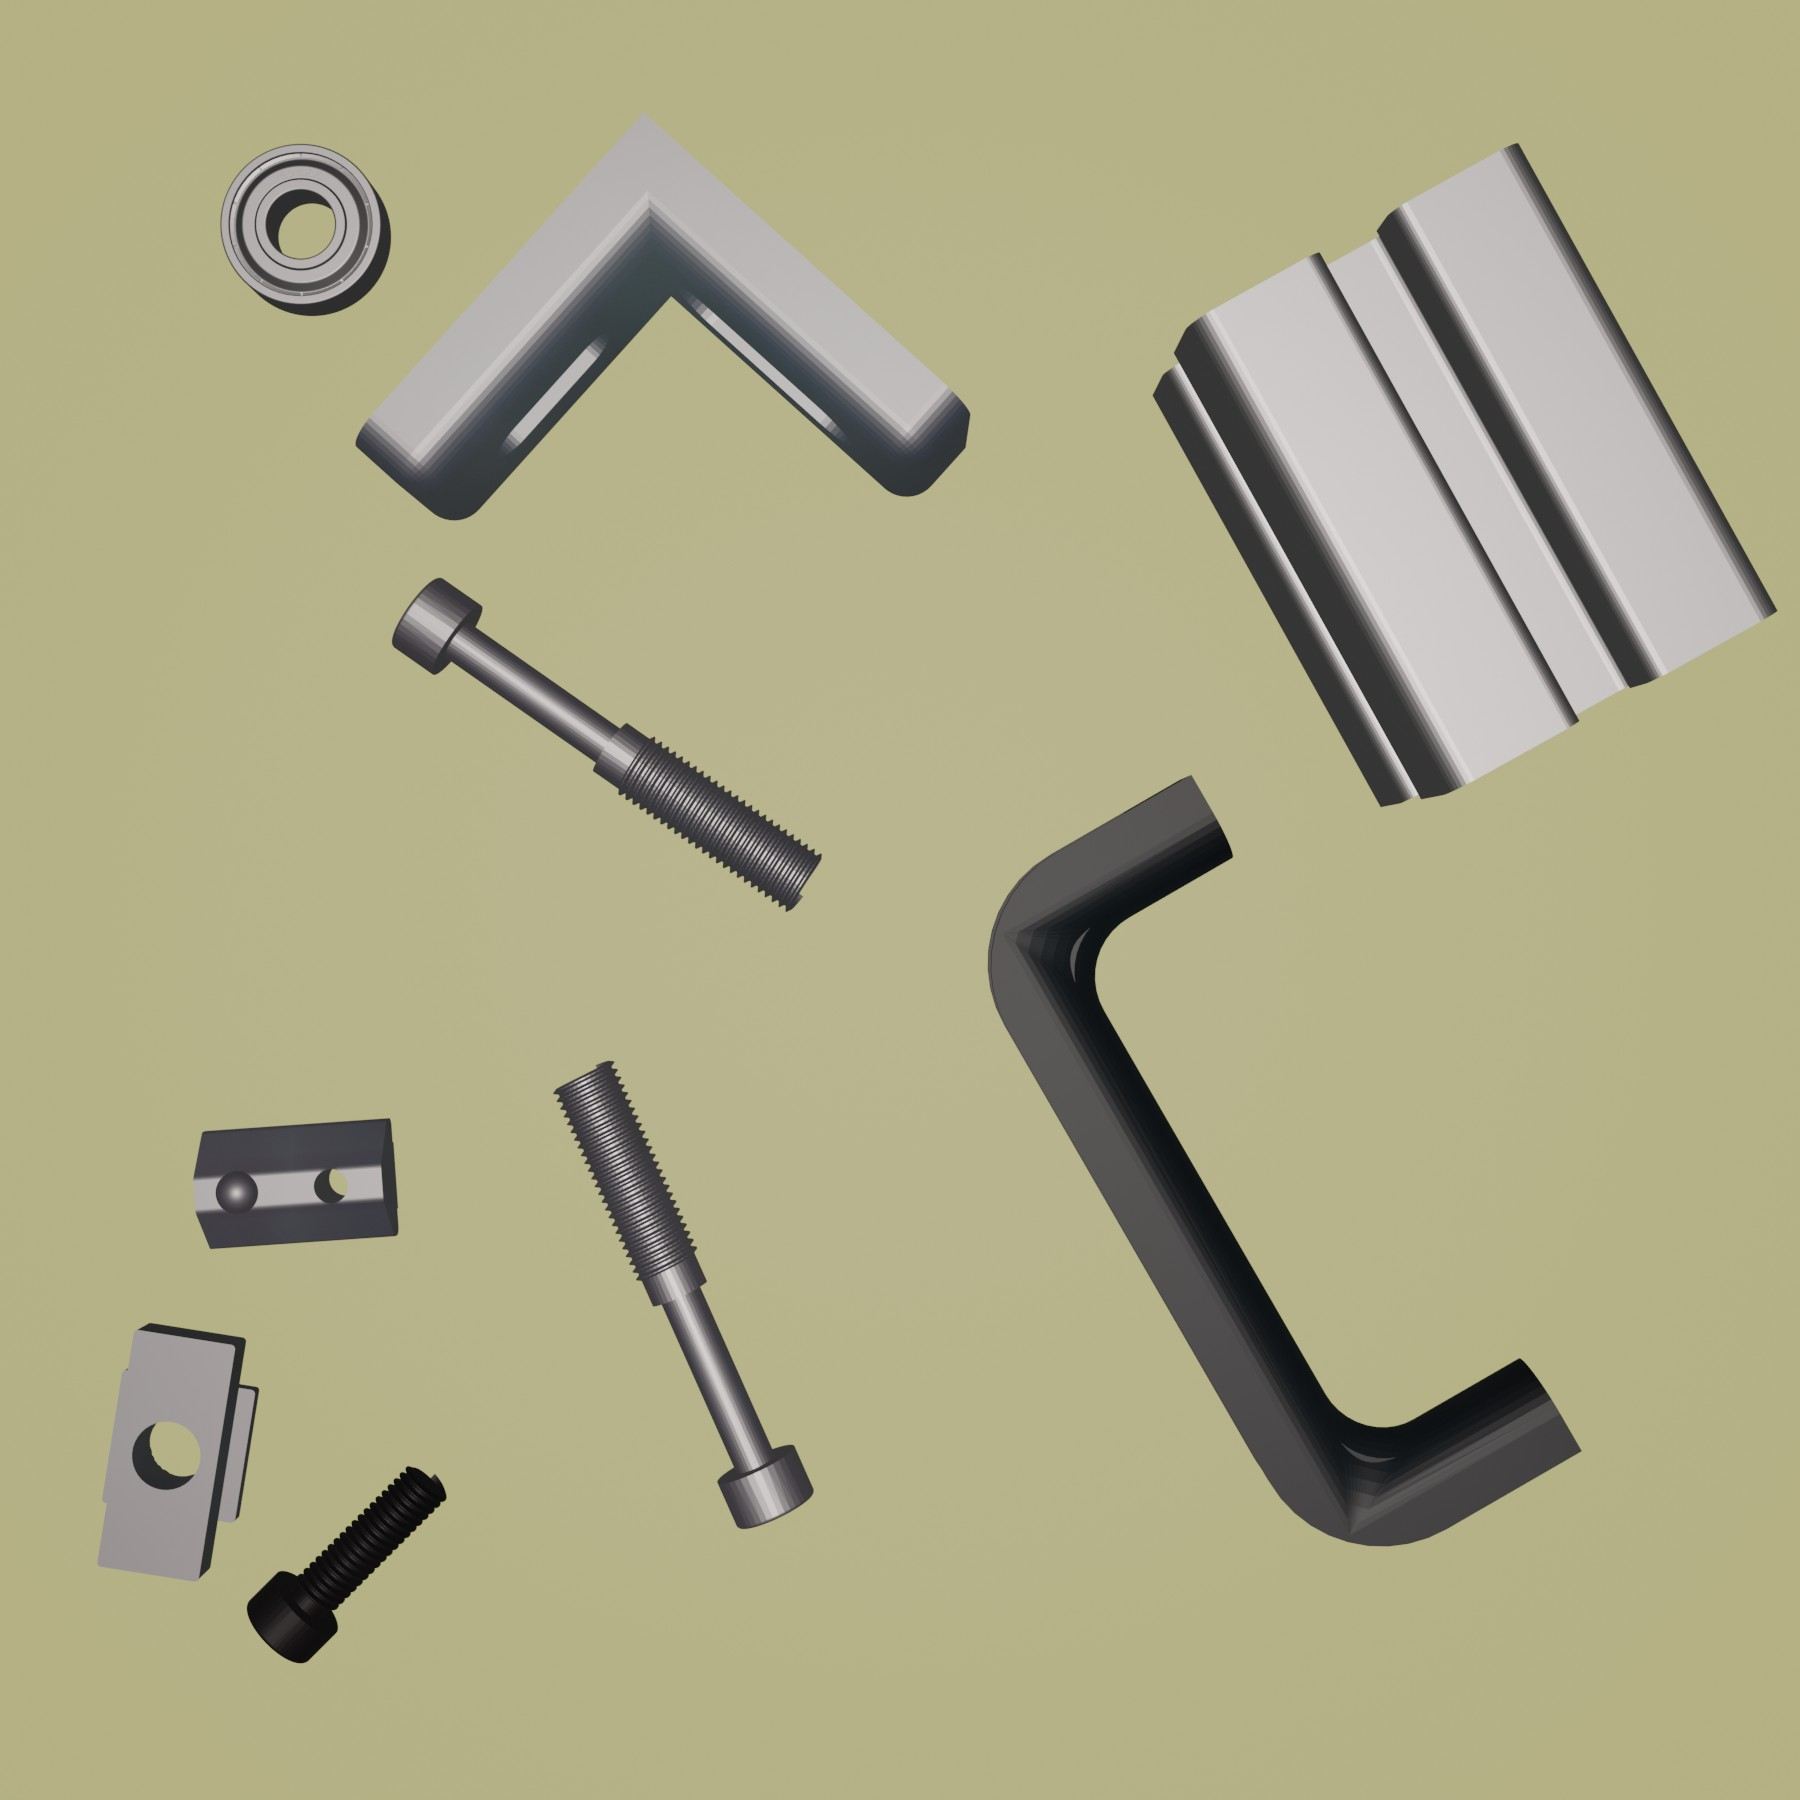Aluminium Extension: (1151, 142, 1779, 808)
Ball Bearing: (219, 138, 392, 318)
Multiwinkel: (353, 109, 973, 523)
Pull Handle: (982, 775, 1582, 1548)
Shoulder Socket Head Cap Screw: (389, 574, 824, 912), (554, 1058, 816, 1531)
Socket Head Cap Screw: (246, 1459, 447, 1666)
T Nut Square: (94, 1315, 262, 1584)
T Spring Nut: (190, 1114, 402, 1253)
